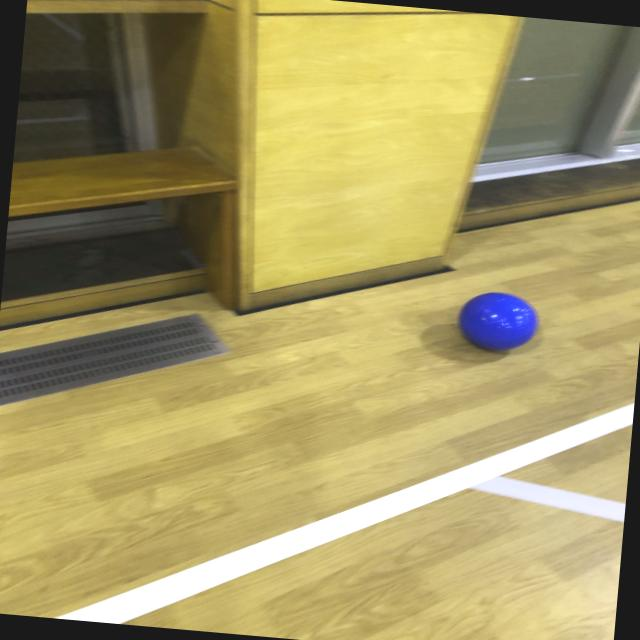blue_ball: (446, 283, 544, 359)
